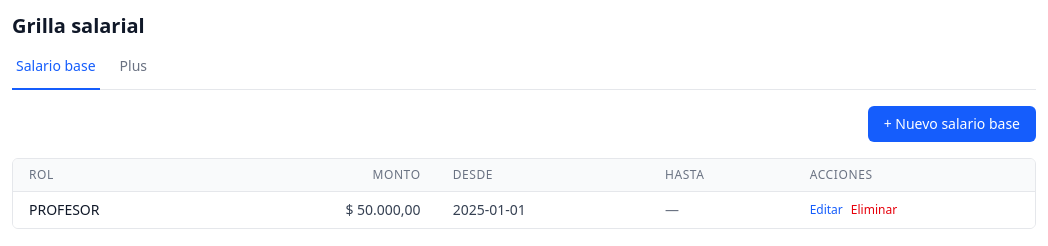
Test: GrillaSalarialPage › 12.3b: switching to Plus tab shows plus data
Click the button "Plus" at (133, 73), box 116,56 -> 151,90
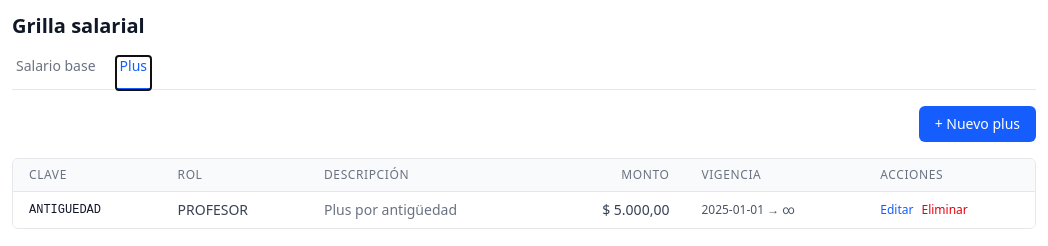
Check: the text "ANTIGUEDAD" is shown, box 13,192 -> 162,228
